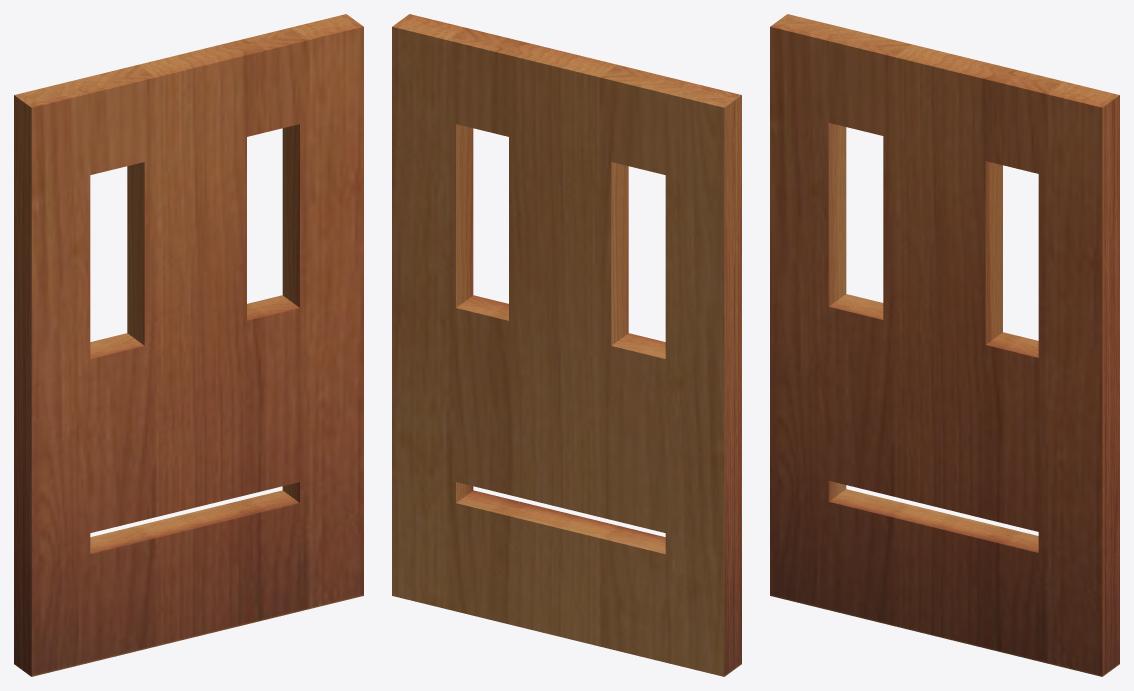
Rendered from puertaP.obj.
3 renders of one model, left to right at view 1: azimuth 30°, elevation 25°; view 2: azimuth 150°, elevation 25°; view 3: azimuth 330°, elevation 25°, orthographic.
Visible parts, largest first — view 1: pCube13; view 2: pCube13; view 3: pCube13.
Part boxes in pixels (<box>): pCube13: <box>14,14,363,676</box>; pCube13: <box>392,14,741,676</box>; pCube13: <box>770,14,1119,676</box>.
Bounding box in the file's own units: 110 × 180 × 10.
Materials: 1 (1 with a texture image).
